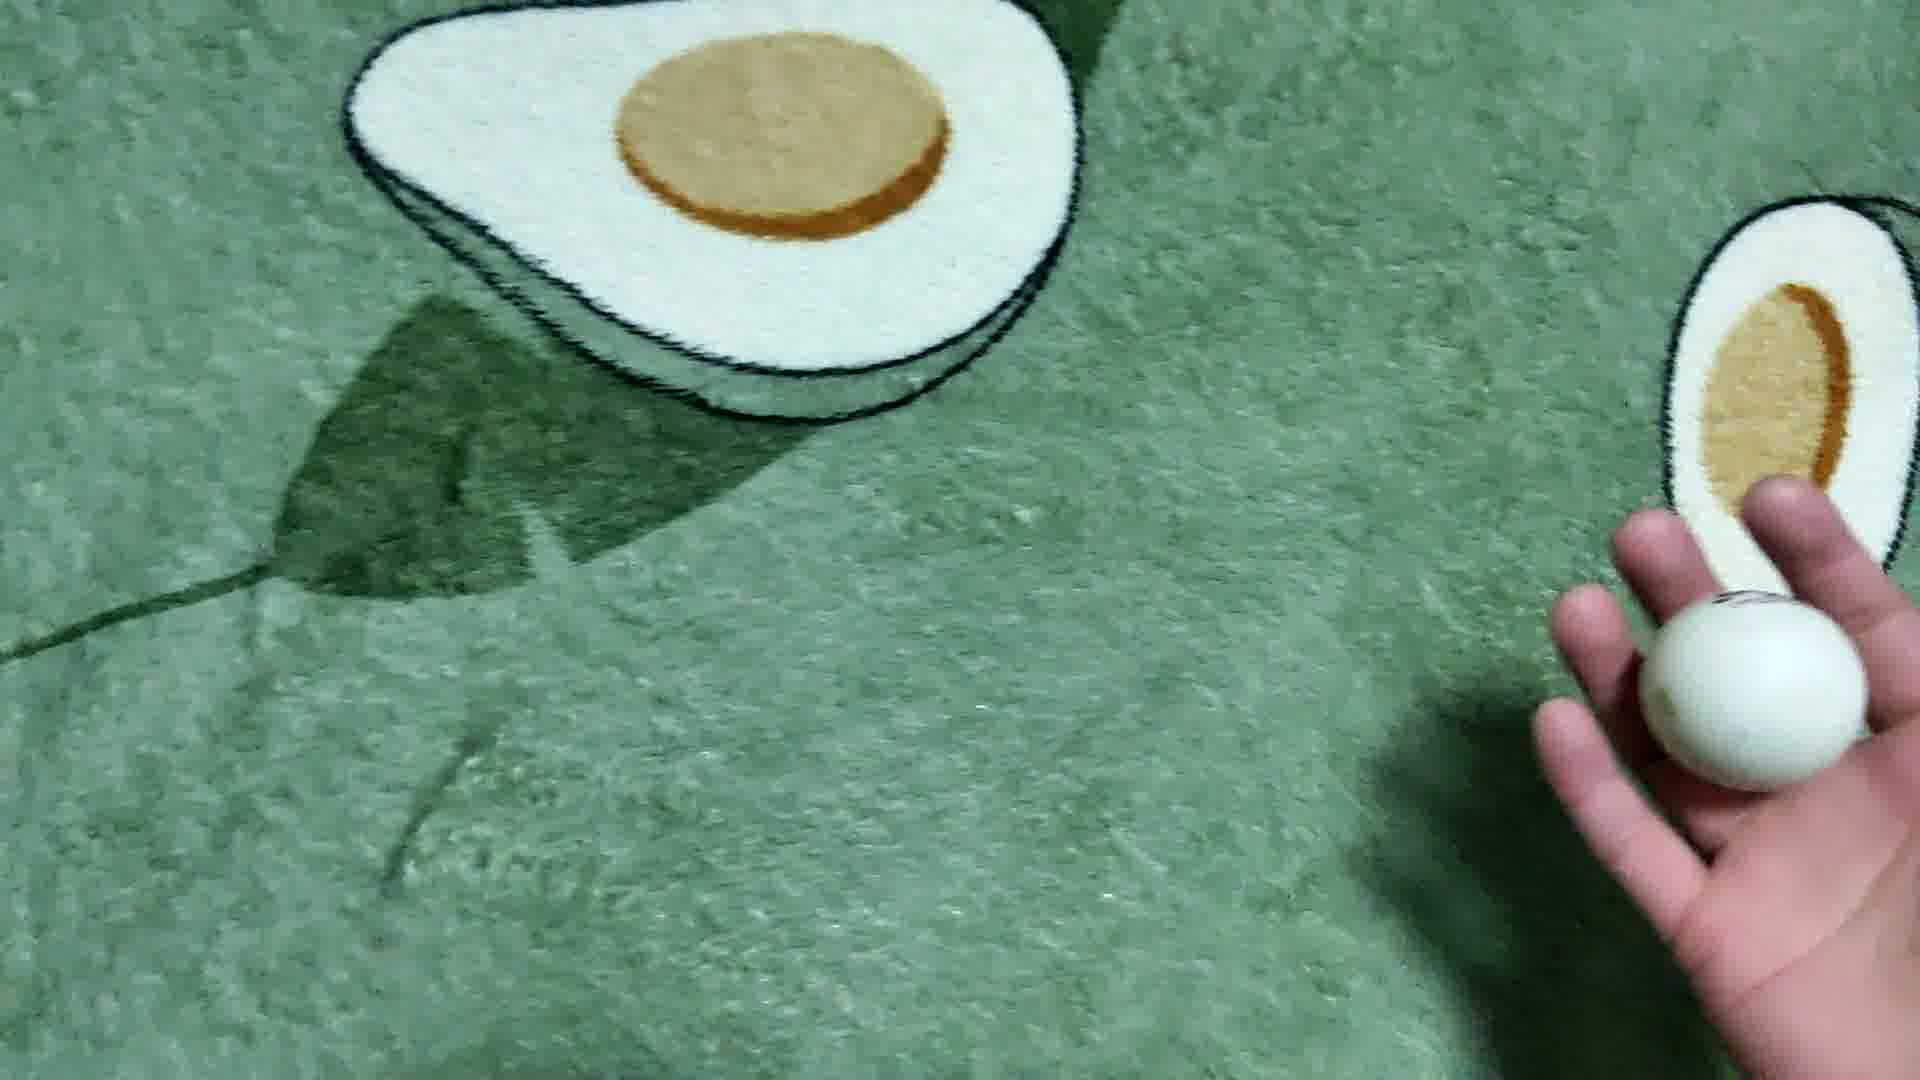Ball: (1640, 587, 1876, 790)
